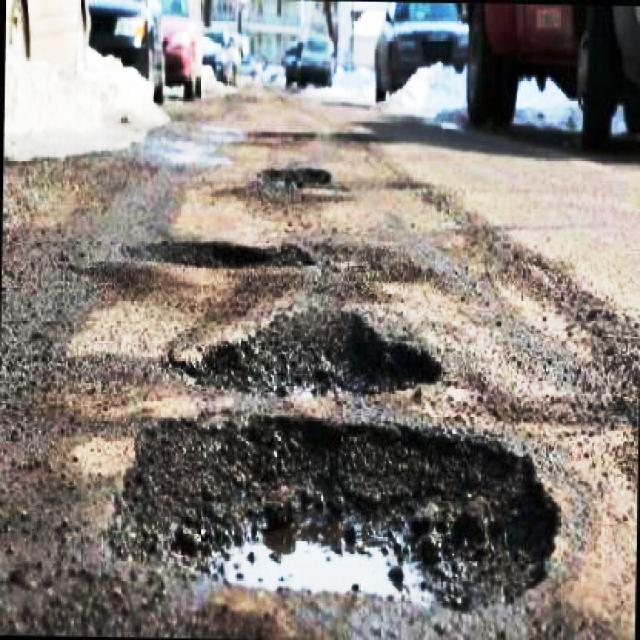pothole: (106, 400, 572, 617), (149, 302, 449, 400), (128, 228, 317, 275), (265, 160, 332, 195)
